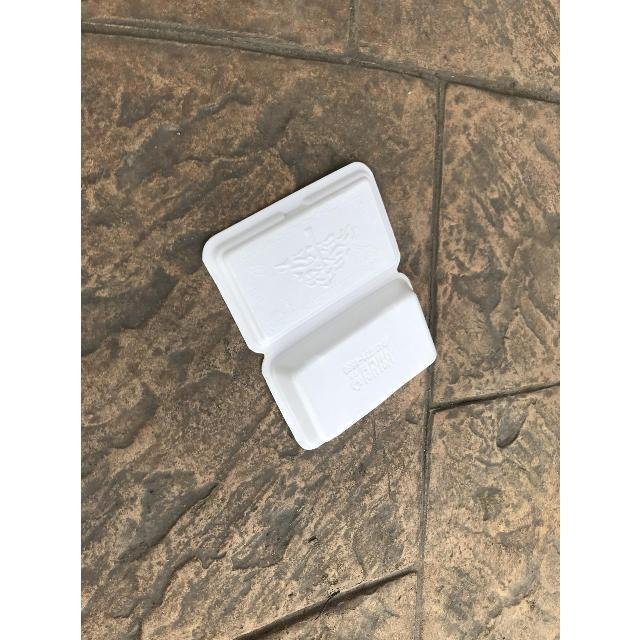Recipiente plastico: (202, 162, 436, 449)
